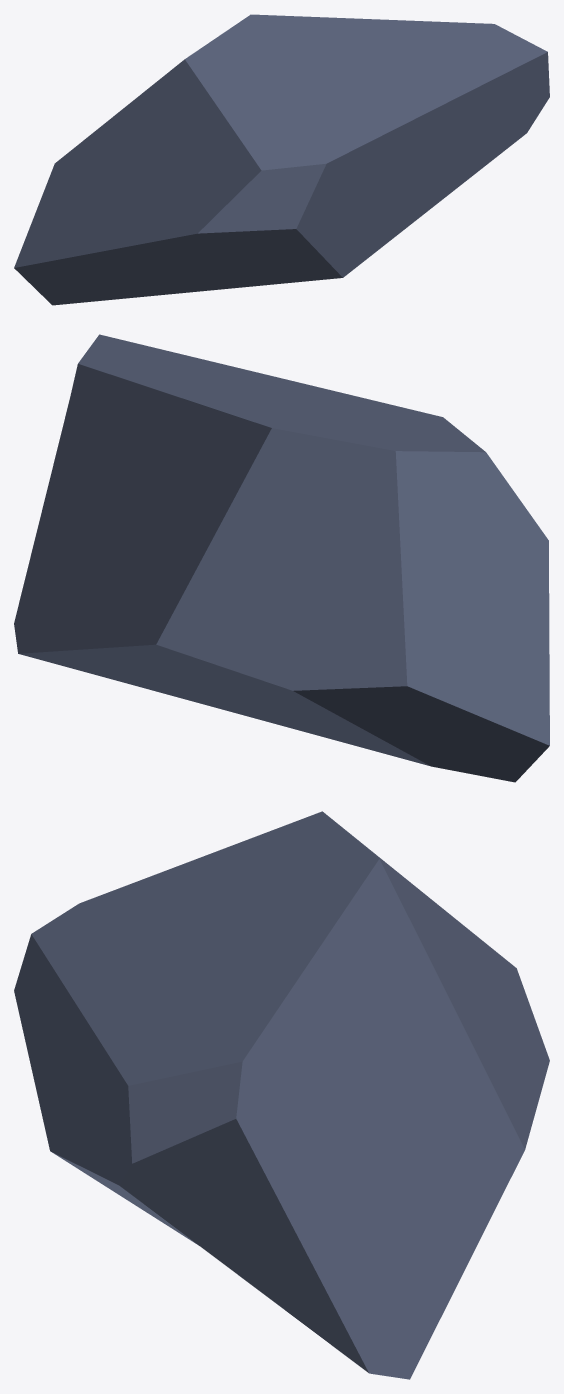
Rendered from n2_rock_lev2.015.glb.
3 renders of one model, top to bottom at view 1: azimuth 30°, elevation 25°; view 2: azimuth 150°, elevation 25°; view 3: azimuth 270°, elevation 25°, orthographic. The views are drawn at different scales.
Parts seen in each view (by area): view 1: n2_rock_lev2.015; view 2: n2_rock_lev2.015; view 3: n2_rock_lev2.015.
Boxes of the visible parts, x1,y1,x2,y2 form: n2_rock_lev2.015: (14,14,549,305); n2_rock_lev2.015: (14,334,549,782); n2_rock_lev2.015: (14,811,549,1379).
Bounding box in the file's own units: 2.03 × 1.03 × 1.29.
